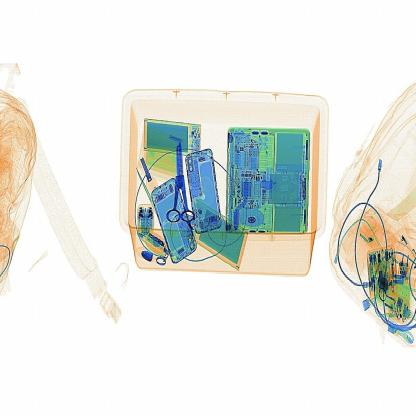gun: (161, 127, 199, 232)
